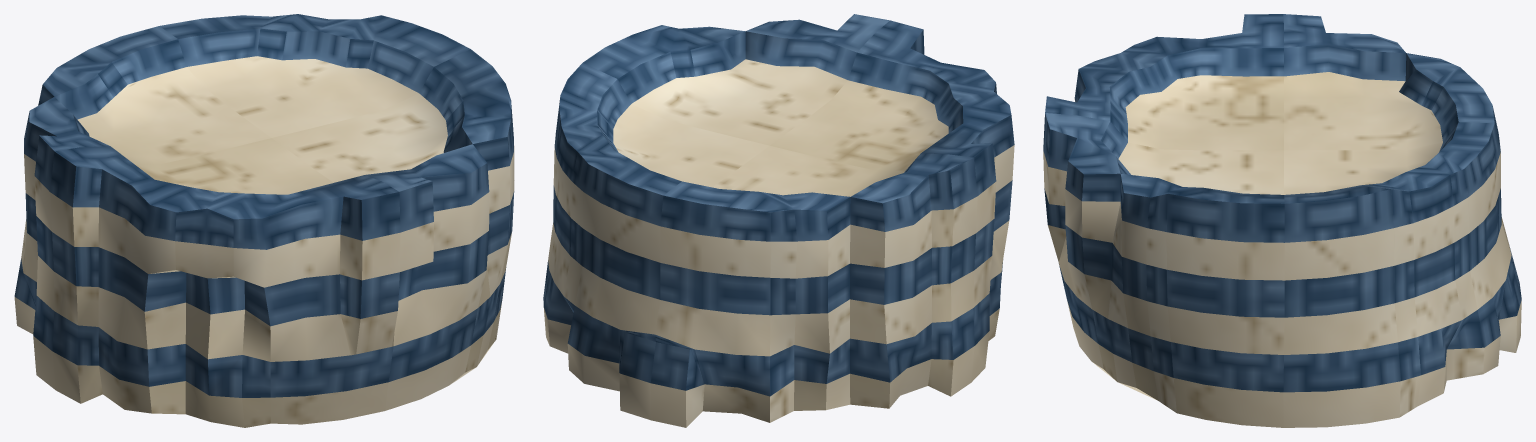
Rendered from prop_plates.glb.
The picture shows the model from 3 angles, left to right: view 1: azimuth 30°, elevation 25°; view 2: azimuth 150°, elevation 25°; view 3: azimuth 270°, elevation 25°; orthographic projection. The views are drawn at different scales.
Visible parts, largest first — view 1: town_prop_plates; view 2: town_prop_plates; view 3: town_prop_plates.
Part boxes in pixels (box(x1,y1,x2,y2)): town_prop_plates: box(14, 14, 514, 427); town_prop_plates: box(543, 14, 1014, 427); town_prop_plates: box(1043, 14, 1521, 427).
Size of the model in its own units: 0.2317 by 0.125 by 0.2419.
Materials: 1 (1 with a texture image).
